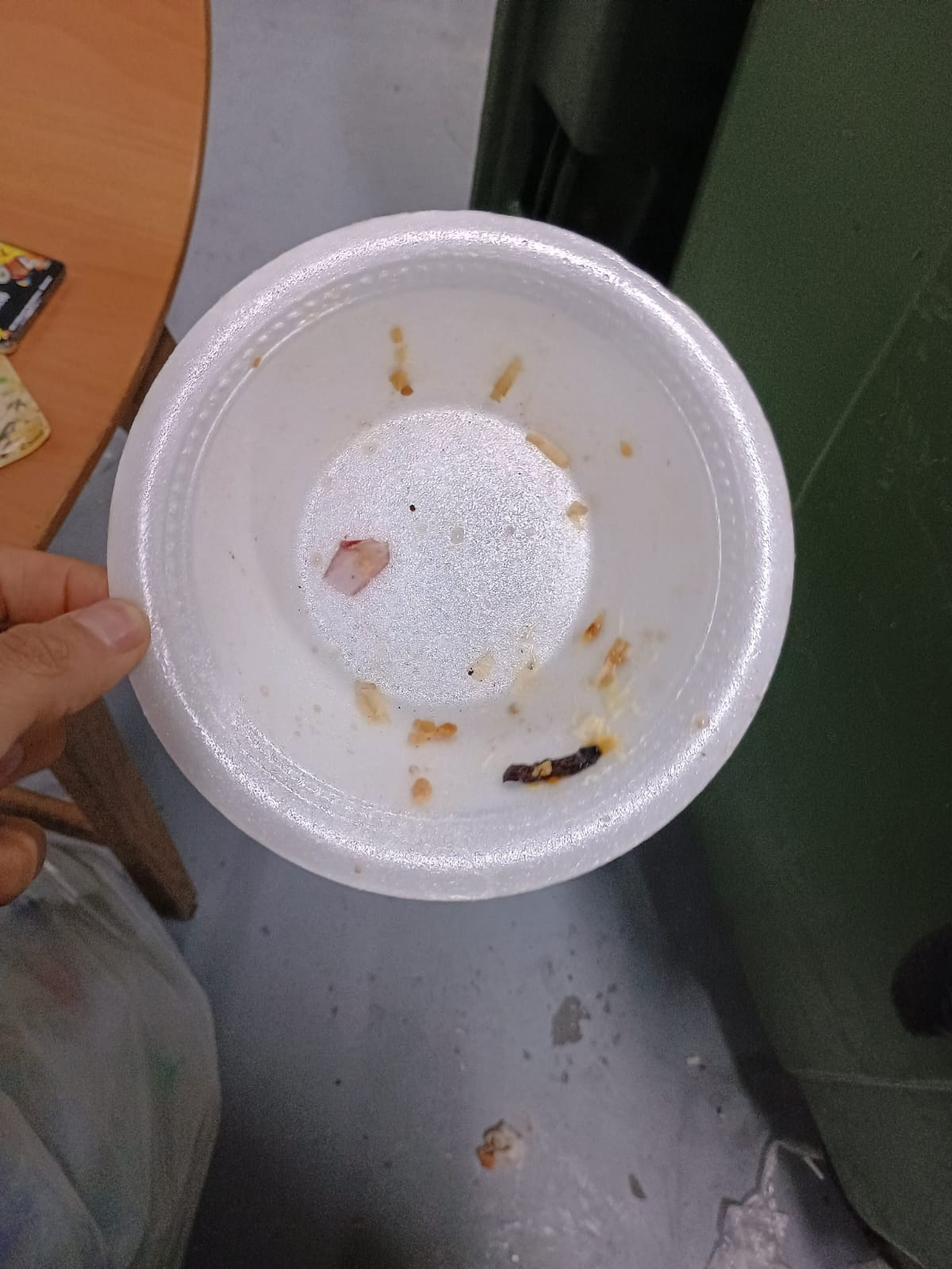Ordinario: (106, 212, 795, 899)
